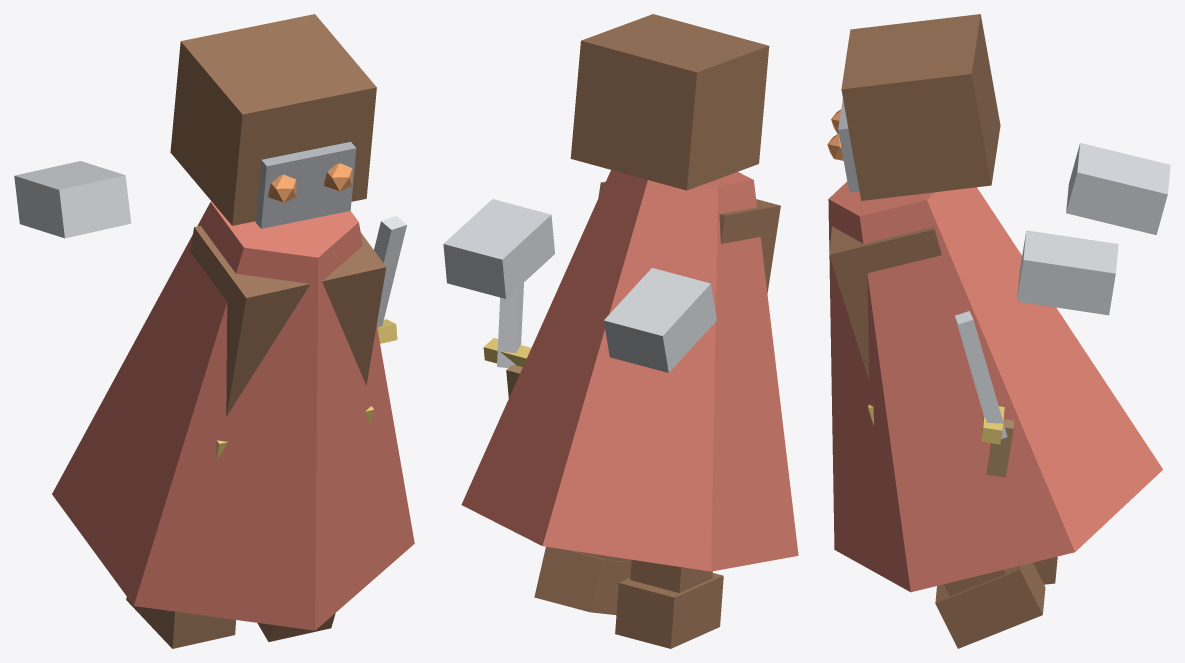
File: npcpose_raider_idle_09.glb
The picture shows the model from 3 angles, left to right: view 1: azimuth 30°, elevation 25°; view 2: azimuth 150°, elevation 25°; view 3: azimuth 270°, elevation 25°; orthographic projection. The views are drawn at different scales.
Visible parts, largest first — view 1: npcpose; view 2: npcpose; view 3: npcpose.
Part boxes in pixels (x1,y1,x2,y2): npcpose: (14,14,414,648); npcpose: (443,14,798,648); npcpose: (827,14,1170,648).
Bounding box in the file's own units: 0.8199 × 1.62 × 0.8825.
